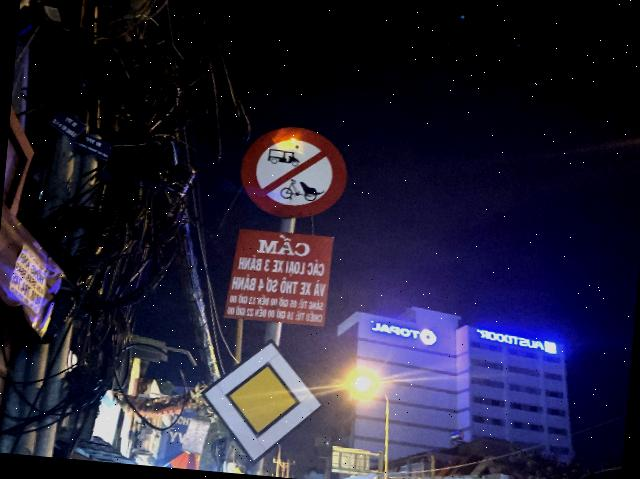bat-dau-duong-uu-tien: (194, 332, 329, 472)
cam-xe-3-banh-xe-tho-so-4-banh: (238, 121, 350, 222)
